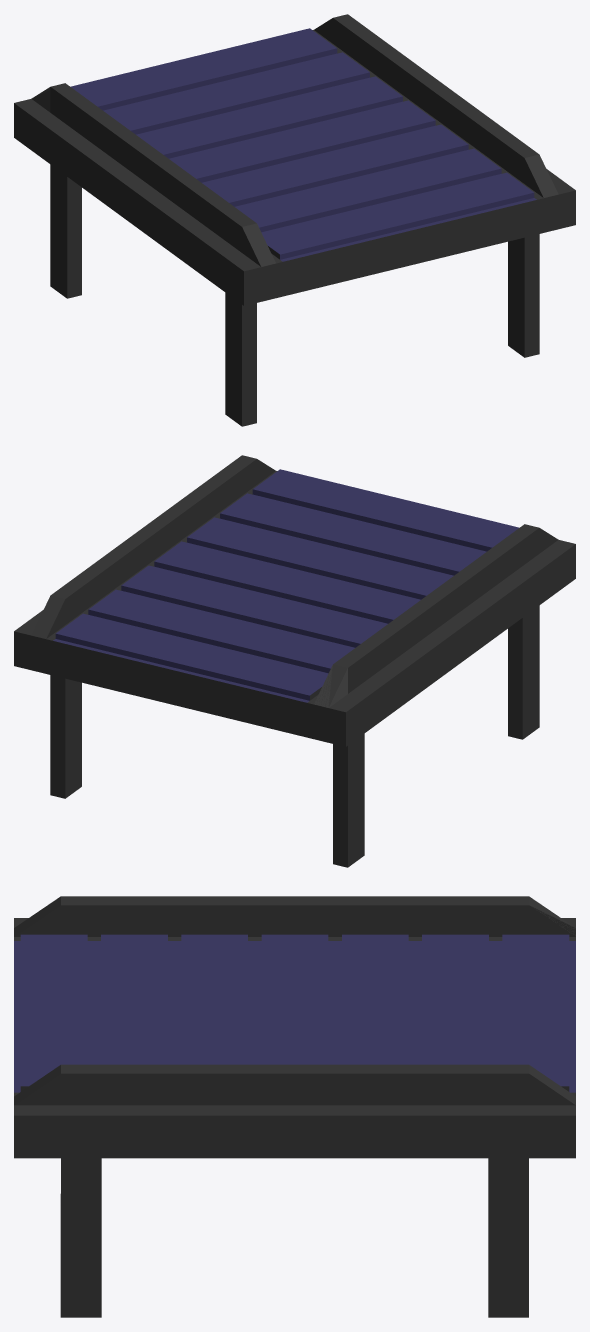
Rendered from conveyor.fbx.
The picture shows the model from 3 angles, top to bottom: view 1: azimuth 30°, elevation 25°; view 2: azimuth 150°, elevation 25°; view 3: azimuth 270°, elevation 25°; orthographic projection. The views are drawn at different scales.
Parts seen in each view (by area): view 1: conveyor; view 2: conveyor; view 3: conveyor.
Boxes of the visible parts, x1,y1,x2,y2 form: conveyor: (14, 14, 575, 426); conveyor: (14, 455, 575, 867); conveyor: (14, 896, 575, 1317).
Bounding box in the file's own units: 200 × 115 × 240.
